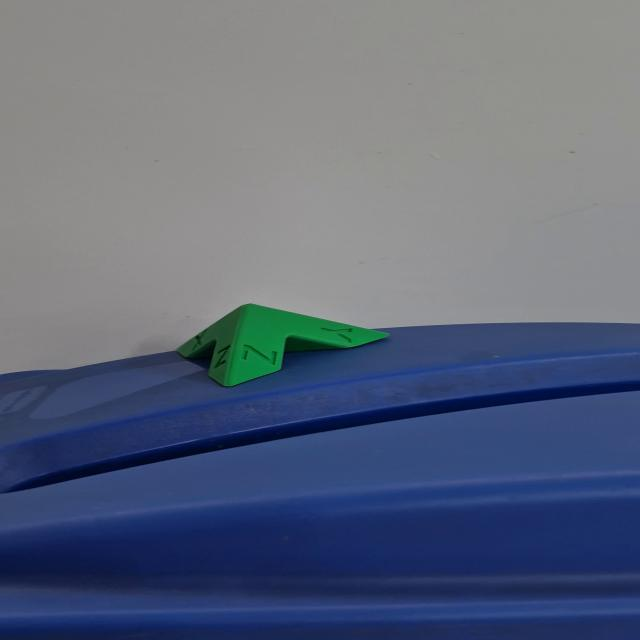eje: (172, 301, 393, 389)
